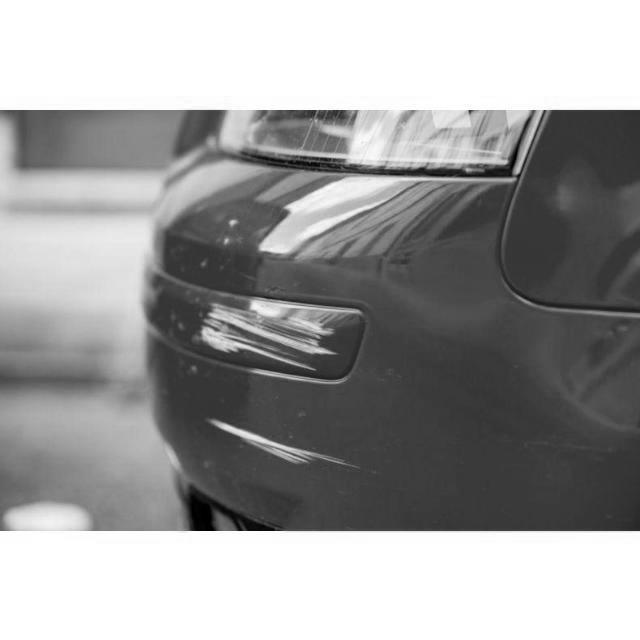front-bumper-dent: (144, 161, 519, 530)
